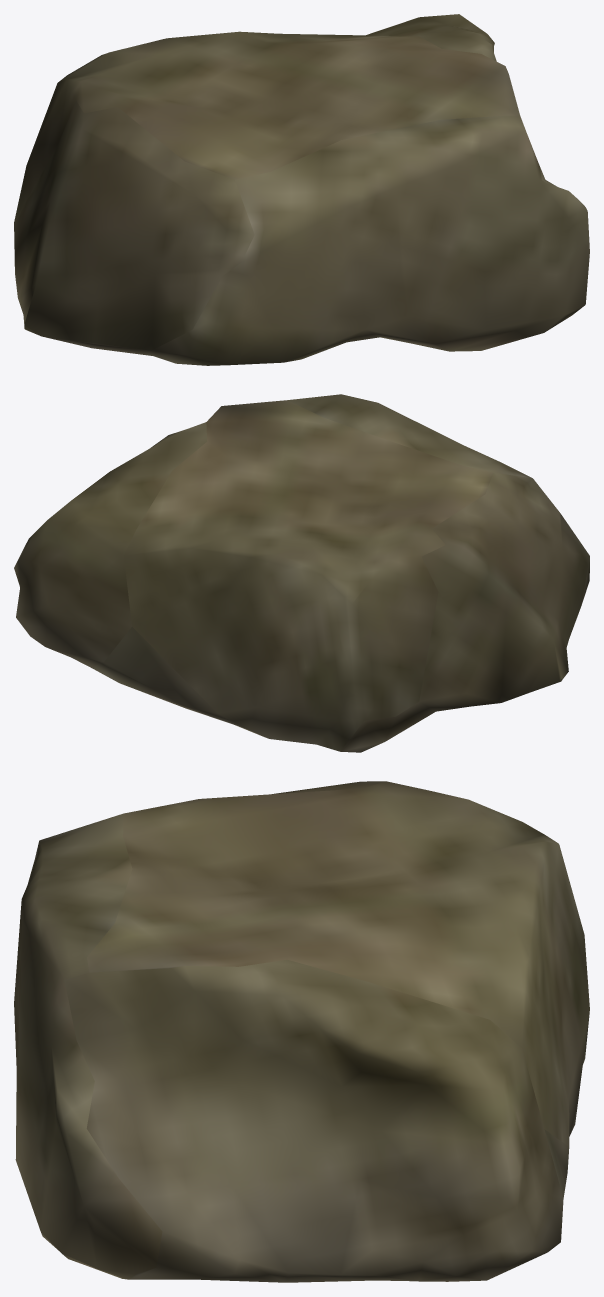
3 renders of one model, top to bottom at view 1: azimuth 30°, elevation 25°; view 2: azimuth 150°, elevation 25°; view 3: azimuth 270°, elevation 25°, orthographic. The views are drawn at different scales.
Visible parts, largest first — view 1: rock_moss_set_02__a_lod2; view 2: rock_moss_set_02__a_lod2; view 3: rock_moss_set_02__a_lod2.
Part boxes in pixels (left/top/right/bottom): rock_moss_set_02__a_lod2: left=14, top=14, right=589, bottom=365; rock_moss_set_02__a_lod2: left=14, top=394, right=589, bottom=752; rock_moss_set_02__a_lod2: left=14, top=781, right=589, bottom=1282.
Size of the model in its own units: 1.69 by 0.7302 by 1.19.
1 material, 1 textured.
